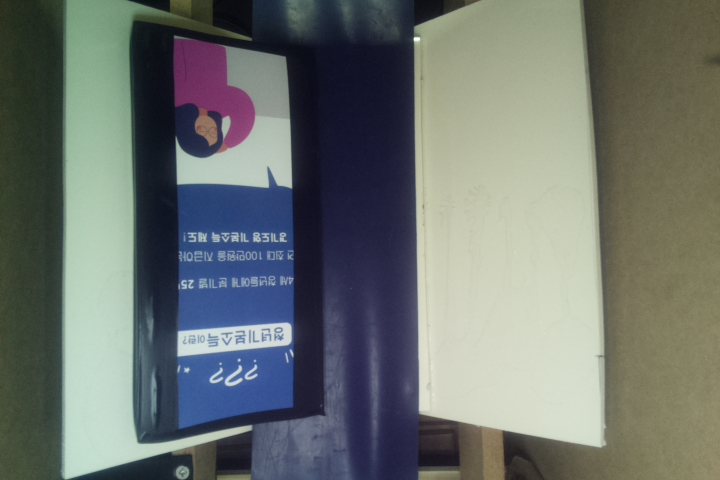book: (132, 19, 316, 446)
